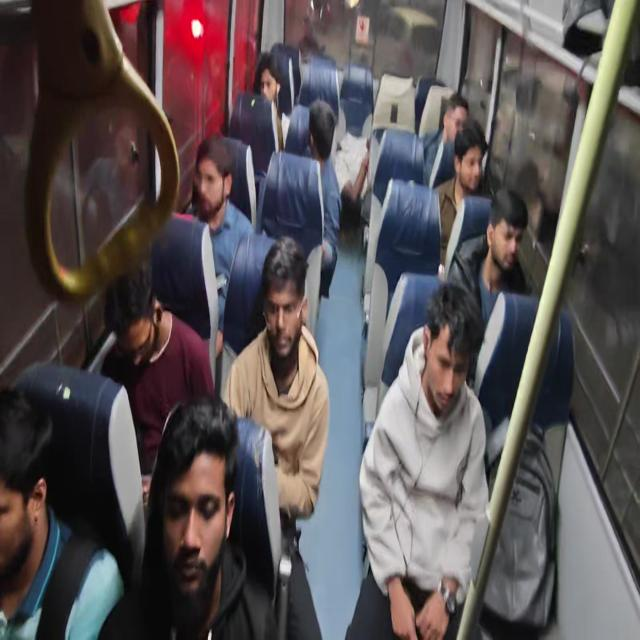person: (153, 395, 234, 600), (2, 380, 52, 583), (419, 271, 485, 412), (256, 233, 307, 378), (101, 268, 161, 384), (189, 130, 238, 259), (486, 186, 527, 289), (457, 121, 487, 200), (304, 98, 336, 158), (258, 44, 280, 106), (442, 83, 466, 136)
